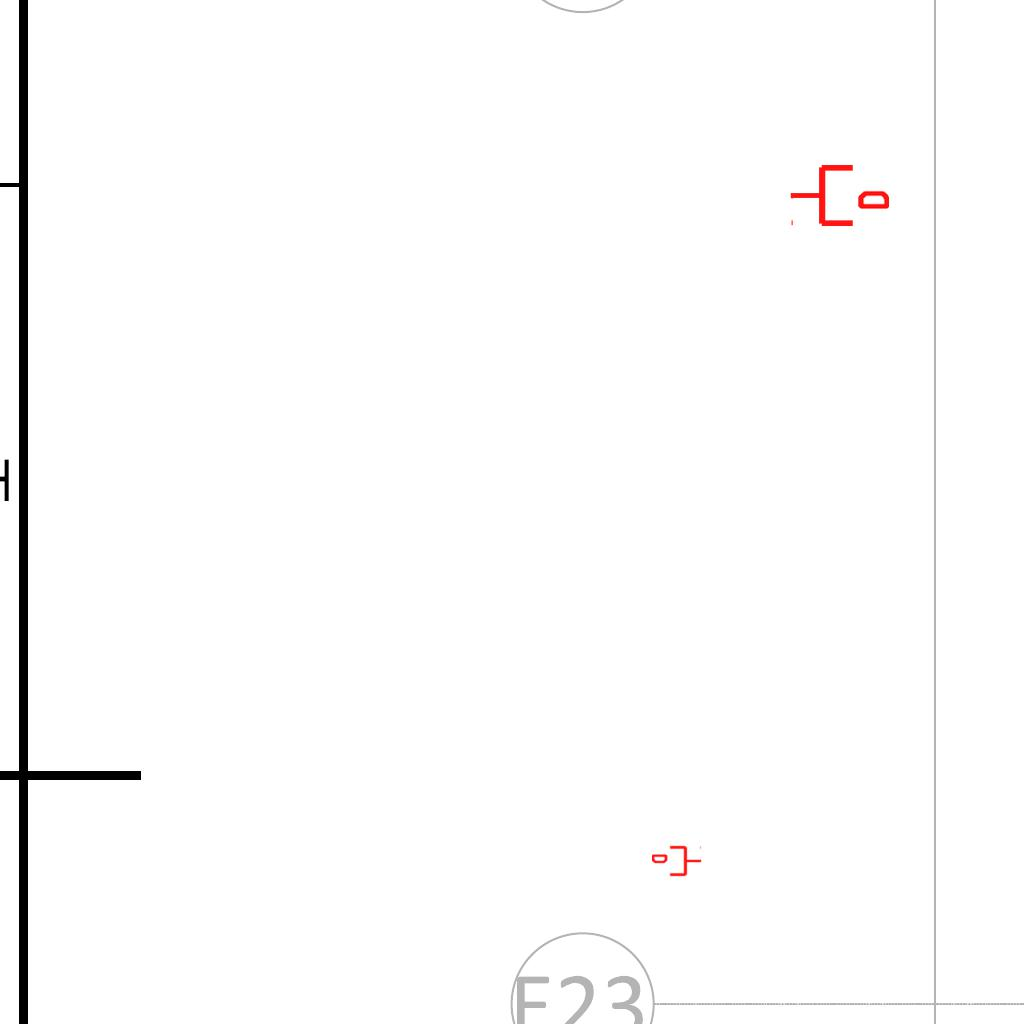Datenanschluss_einfach: (789, 161, 889, 230), (652, 844, 702, 878)
